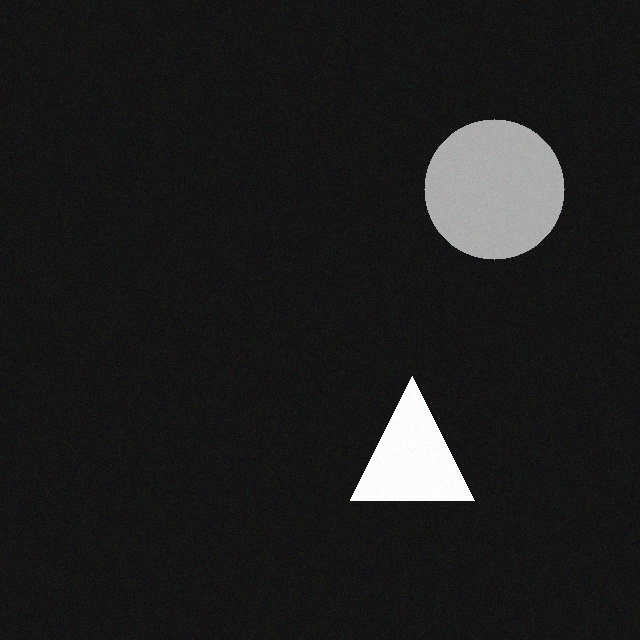circle: (418, 122, 558, 262)
triangle: (344, 379, 468, 503)
